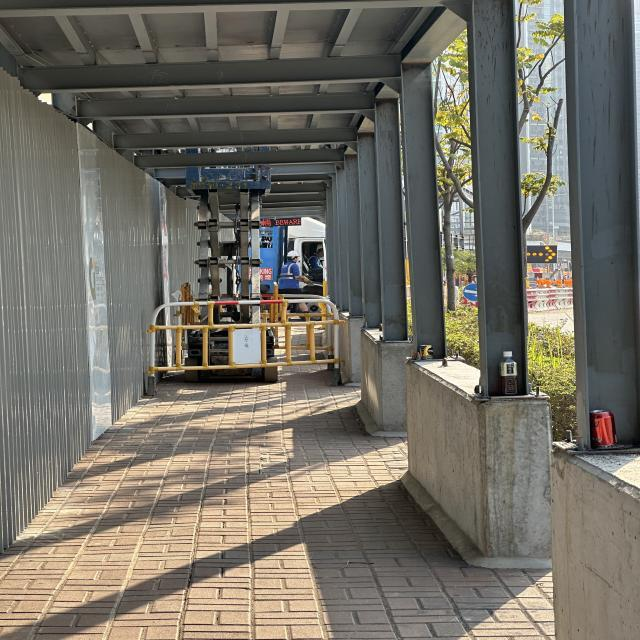2m above platform: (185, 169, 282, 387)
